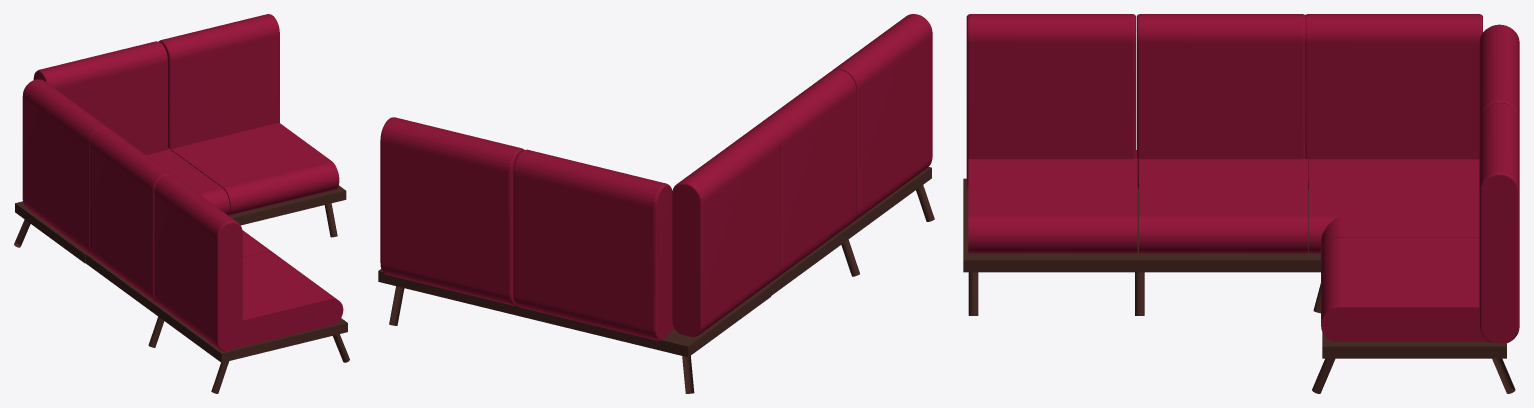
File: sillon.obj
The picture shows the model from 3 angles, left to right: view 1: azimuth 30°, elevation 25°; view 2: azimuth 150°, elevation 25°; view 3: azimuth 270°, elevation 25°; orthographic projection. The views are drawn at different scales.
Parts seen in each view (by area): view 1: pasted__pasted__pasted__pasted__pasted__pasted__pasted__pasted__, pasted__pasted__pasted__pasted__pasted__pasted__pCube1 pasted__p, pasted__pasted__pasted__pasted__pasted__pasted__pasted__pCube1 p, pasted__pasted__pasted__pasted__pasted__pCube1 pasted__pasted__p, pasted__pasted__pasted__pCube1 pasted__pasted__group pasted__gro, pCube1, pasted__pCube1 group, pasted__pasted__pasted__pasted__pCube1 pasted__pasted__pasted__g; view 2: pasted__pasted__pasted__pasted__pasted__pasted__pasted__pasted__, pasted__pasted__pasted__pasted__pasted__pasted__pCube1 pasted__p, pasted__pasted__pasted__pasted__pasted__pasted__pasted__pCube1 p, pasted__pCube1 group, pCube1; view 3: pasted__pasted__pasted__pasted__pasted__pasted__pasted__pasted__, pasted__pasted__pasted__pasted__pasted__pasted__pCube1 pasted__p, pasted__pasted__pasted__pasted__pasted__pasted__pasted__pCube1 p, pasted__pasted__pasted__pasted__pasted__pCube1 pasted__pasted__p, pasted__pasted__pasted__pCube1 pasted__pasted__group pasted__gro, pasted__pasted__pasted__pasted__pCube1 pasted__pasted__pasted__g, pCube1, pasted__pCube1 group, pCylinder1.
Boxes of the visible parts, bbox=[...] form: pasted__pasted__pasted__pasted__pasted__pasted__pasted__pasted__: bbox=[22, 14, 279, 256]; pasted__pasted__pasted__pasted__pasted__pasted__pCube1 pasted__p: bbox=[146, 148, 242, 351]; pasted__pasted__pasted__pasted__pasted__pasted__pasted__pCube1 p: bbox=[89, 128, 174, 303]; pasted__pasted__pasted__pasted__pasted__pCube1 pasted__pasted__p: bbox=[170, 122, 339, 215]; pasted__pasted__pasted__pCube1 pasted__pasted__group pasted__gro: bbox=[237, 252, 343, 347]; pCube1: bbox=[85, 253, 347, 362]; pasted__pCube1 group: bbox=[15, 185, 346, 263]; pasted__pasted__pasted__pasted__pCube1 pasted__pasted__pasted__g: bbox=[242, 230, 273, 257]; pasted__pasted__pasted__pasted__pasted__pasted__pasted__pasted__: bbox=[380, 117, 780, 340]; pasted__pasted__pasted__pasted__pasted__pasted__pCube1 pasted__p: bbox=[670, 14, 932, 331]; pasted__pasted__pasted__pasted__pasted__pasted__pasted__pCube1 p: bbox=[756, 70, 856, 277]; pasted__pCube1 group: bbox=[378, 269, 771, 357]; pCube1: bbox=[768, 167, 931, 295]; pasted__pasted__pasted__pasted__pasted__pasted__pasted__pasted__: bbox=[1305, 14, 1519, 342]; pasted__pasted__pasted__pasted__pasted__pasted__pCube1 pasted__p: bbox=[966, 14, 1479, 253]; pasted__pasted__pasted__pasted__pasted__pasted__pasted__pCube1 p: bbox=[1136, 14, 1305, 189]; pasted__pasted__pasted__pasted__pasted__pCube1 pasted__pasted__p: bbox=[1309, 159, 1488, 341]; pasted__pasted__pasted__pCube1 pasted__pasted__group pasted__gro: bbox=[968, 150, 1137, 253]; pasted__pasted__pasted__pasted__pCube1 pasted__pasted__pasted__g: bbox=[1139, 158, 1308, 253]; pCube1: bbox=[963, 178, 1320, 272]; pasted__pCube1 group: bbox=[1322, 332, 1506, 358]; pCylinder1: bbox=[968, 272, 978, 315].
Bounding box in the file's own units: 2.11 × 1.29 × 2.89.
Materials: 2 (2 with a texture image).
